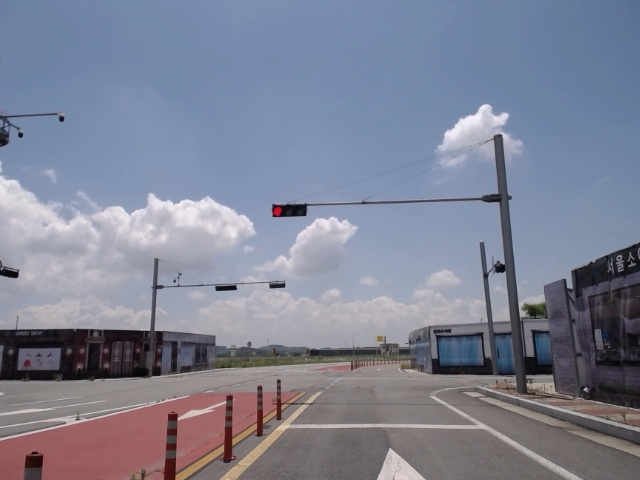red_3: (271, 203, 309, 217)
